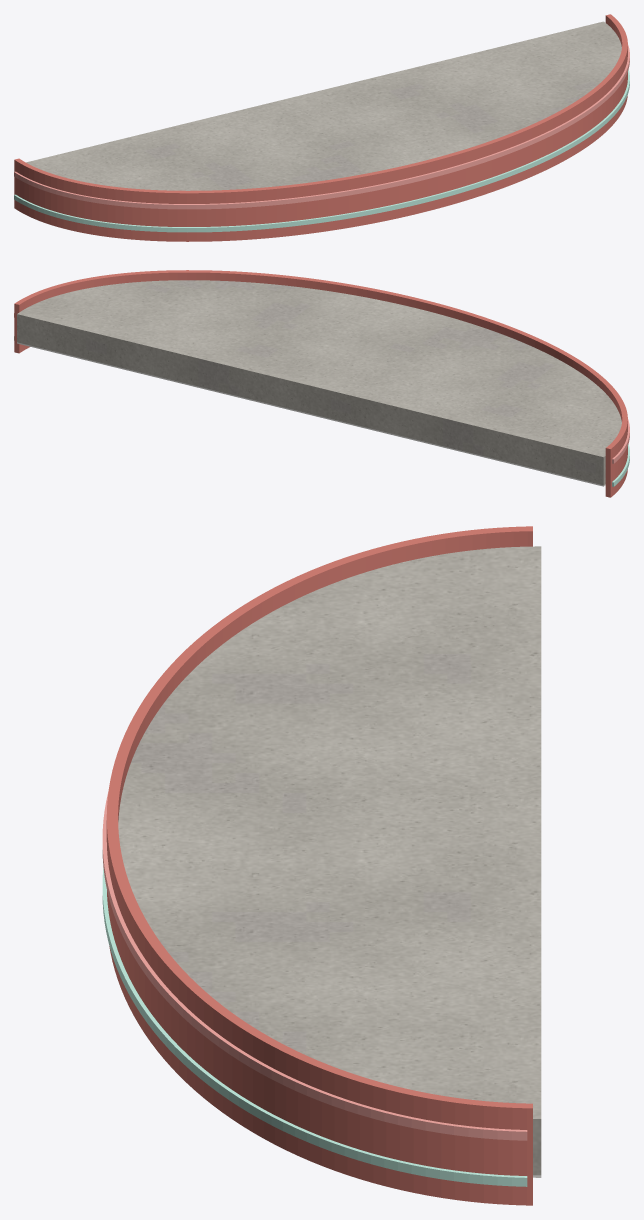
File: front_canopy.glb
3 renders of one model, top to bottom at view 1: azimuth 30°, elevation 25°; view 2: azimuth 150°, elevation 25°; view 3: azimuth 270°, elevation 25°, orthographic. The views are drawn at different scales.
Visible parts, largest first — view 1: front_canopy_concrete, front_canopy_trim_r, front_canopy_neon_r, front_canopy_neon; view 2: front_canopy_concrete, front_canopy_trim_r, front_canopy_ceil; view 3: front_canopy_concrete, front_canopy_trim_r, front_canopy_neon_r, front_canopy_neon.
Boxes of the visible parts, x1,y1,x2,y2 form: front_canopy_concrete: [26, 21, 621, 190]; front_canopy_trim_r: [14, 14, 627, 241]; front_canopy_neon_r: [14, 45, 629, 209]; front_canopy_neon: [14, 69, 629, 232]; front_canopy_concrete: [17, 280, 621, 485]; front_canopy_trim_r: [14, 270, 627, 497]; front_canopy_ceil: [17, 342, 605, 486]; front_canopy_concrete: [118, 546, 541, 1175]; front_canopy_trim_r: [106, 526, 532, 1205]; front_canopy_neon_r: [102, 791, 527, 1140]; front_canopy_neon: [102, 868, 527, 1186].
Bounding box in the file's own units: 4.91 × 0.38 × 1.56.
6 materials, 1 textured.
